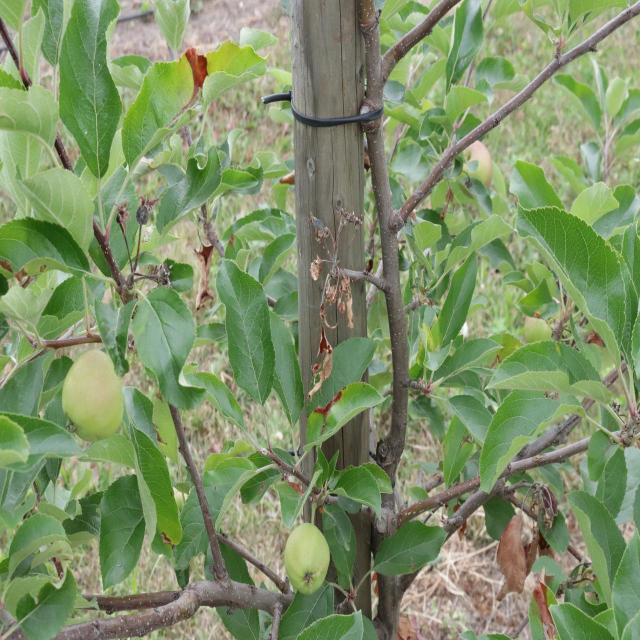-FireBlight-: (302, 238, 359, 328), (502, 513, 538, 592), (187, 34, 226, 102), (307, 329, 343, 402), (188, 243, 222, 314), (526, 573, 556, 640), (534, 485, 558, 528)
